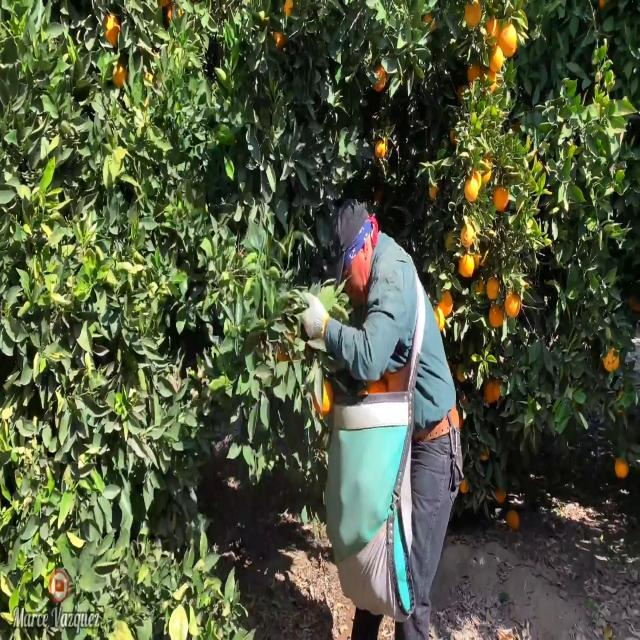Jeruk Sudah Matang: (498, 20, 520, 60), (100, 13, 124, 46), (484, 376, 506, 406), (601, 344, 621, 374), (492, 183, 510, 216), (112, 60, 131, 90), (440, 287, 456, 322), (462, 3, 482, 29), (458, 252, 478, 278), (372, 64, 389, 94), (487, 303, 506, 328), (505, 288, 521, 315), (488, 48, 505, 72), (271, 28, 288, 52), (464, 176, 478, 204), (486, 276, 502, 300), (460, 226, 476, 247), (374, 138, 388, 159)
